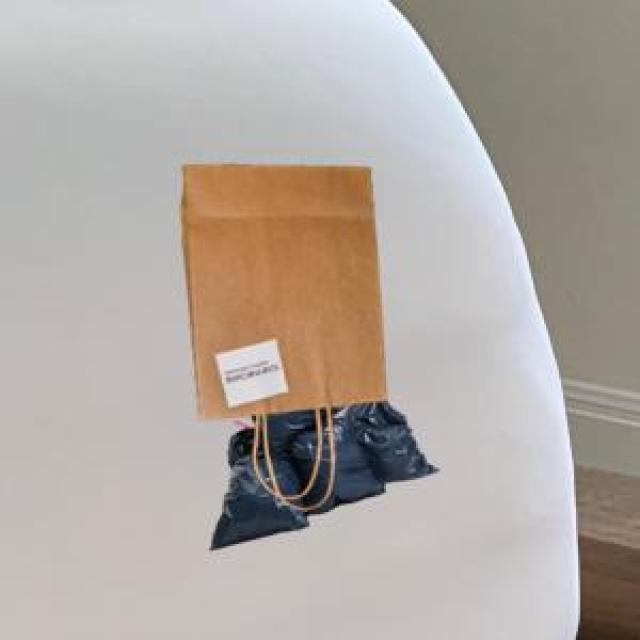miscellaneous trash: (208, 397, 433, 546)
paper: (177, 162, 382, 497)
